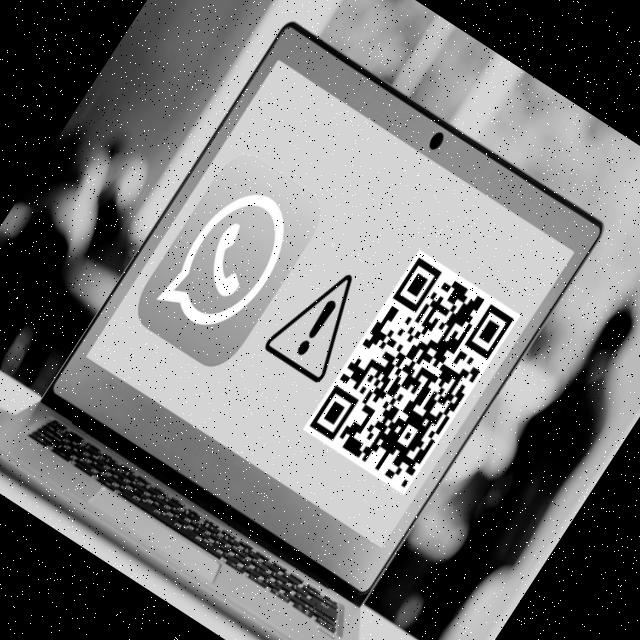QR-codes: (306, 253, 516, 490)
